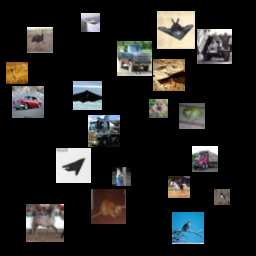airplane: (157, 11, 195, 49), (56, 148, 91, 183), (73, 81, 102, 110)
automobile: (117, 41, 152, 76), (12, 86, 44, 118)
bird: (172, 212, 204, 244), (27, 27, 53, 53), (112, 167, 131, 186), (214, 189, 230, 205)
cat: (91, 189, 126, 224)
deer: (6, 62, 28, 84)
dog: (149, 99, 168, 118)
frog: (153, 59, 185, 91), (179, 103, 205, 129)
ship: (81, 13, 100, 32)
